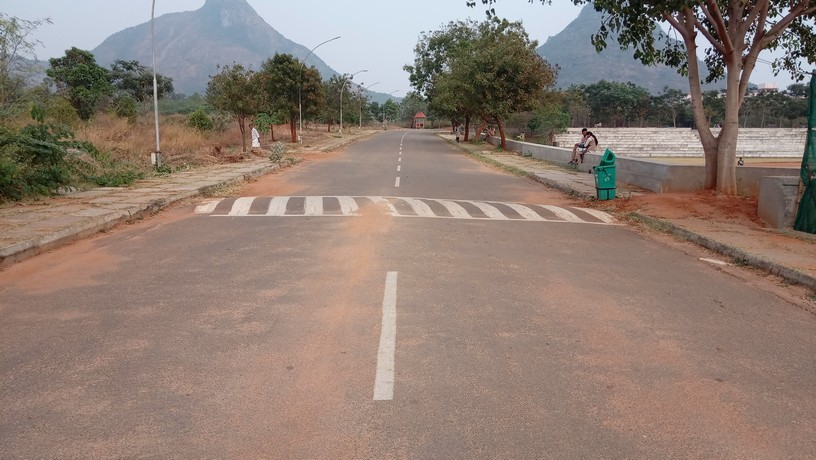bump: (178, 192, 621, 227)
